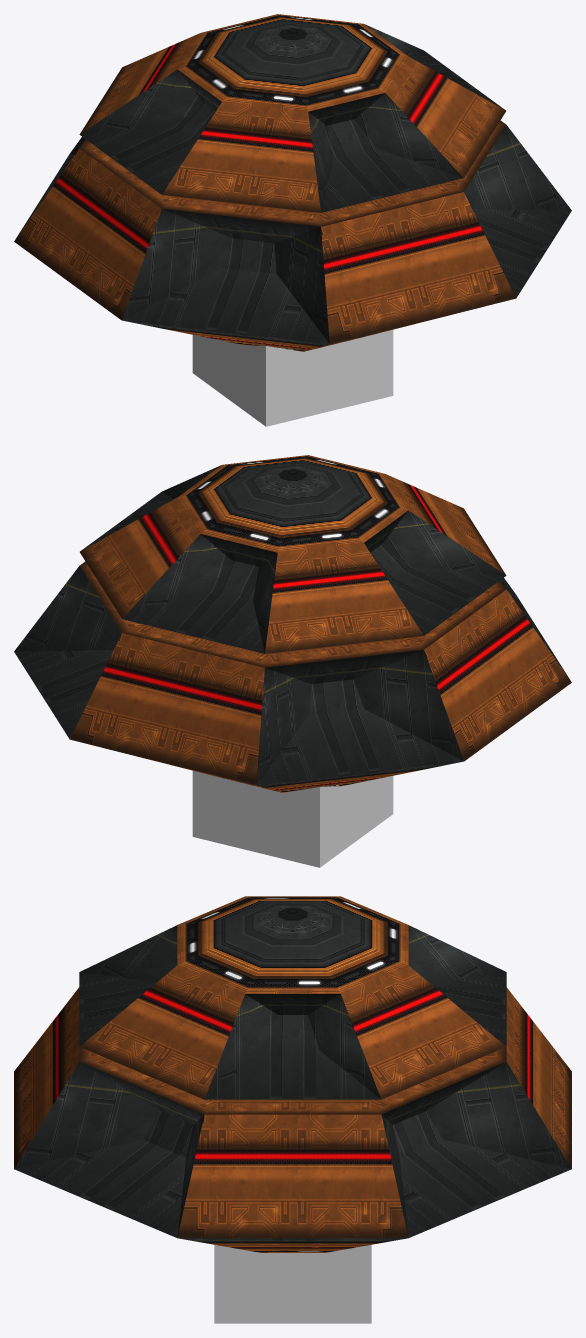
File: igmcur00.FBX
3 renders of one model, top to bottom at view 1: azimuth 30°, elevation 25°; view 2: azimuth 150°, elevation 25°; view 3: azimuth 270°, elevation 25°, orthographic. The views are drawn at different scales.
Visible parts, largest first — view 1: igmcur00, hp_dummyroot; view 2: igmcur00, hp_dummyroot; view 3: igmcur00, hp_dummyroot.
Boxes of the visible parts, box(x1,y1,x2,y2) form: igmcur00: box(14, 14, 571, 351); hp_dummyroot: box(192, 329, 393, 426); igmcur00: box(14, 455, 571, 792); hp_dummyroot: box(192, 770, 393, 867); igmcur00: box(14, 896, 571, 1252); hp_dummyroot: box(214, 1245, 371, 1323).
Size of what is drawn, in the model's own units: 0.956 by 0.956 by 0.7189.
